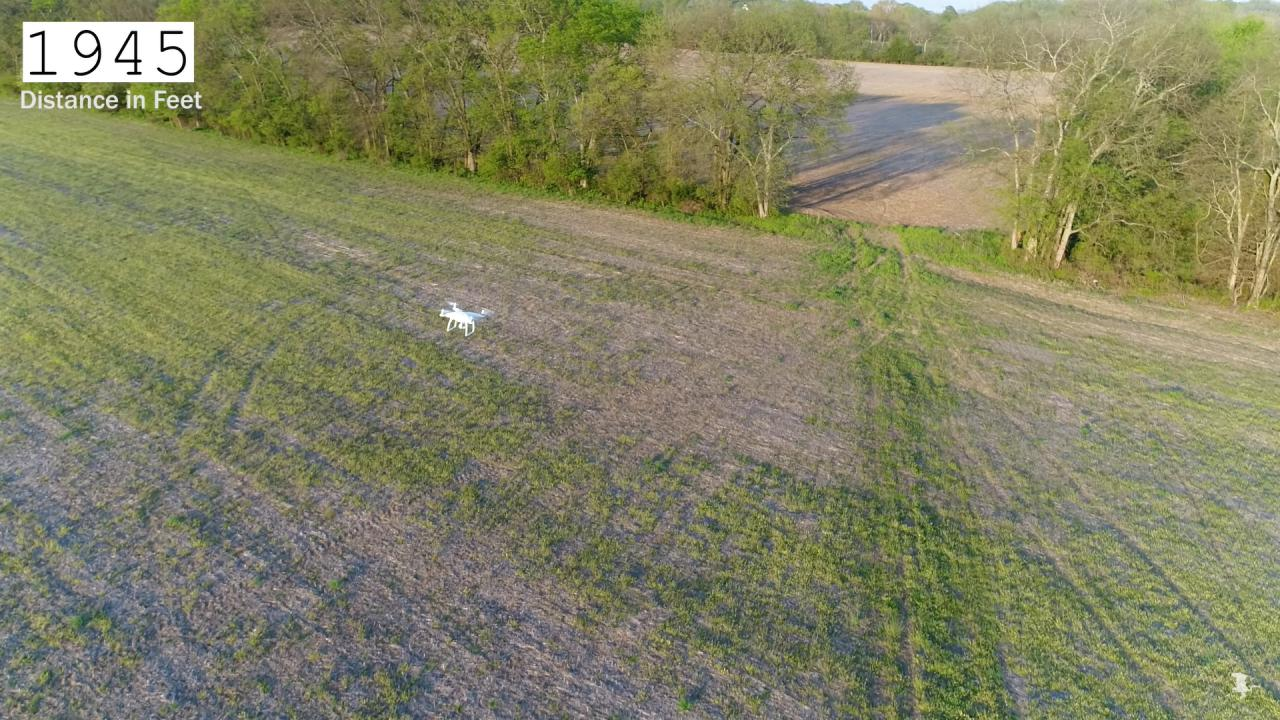Drone: (432, 288, 498, 346)
